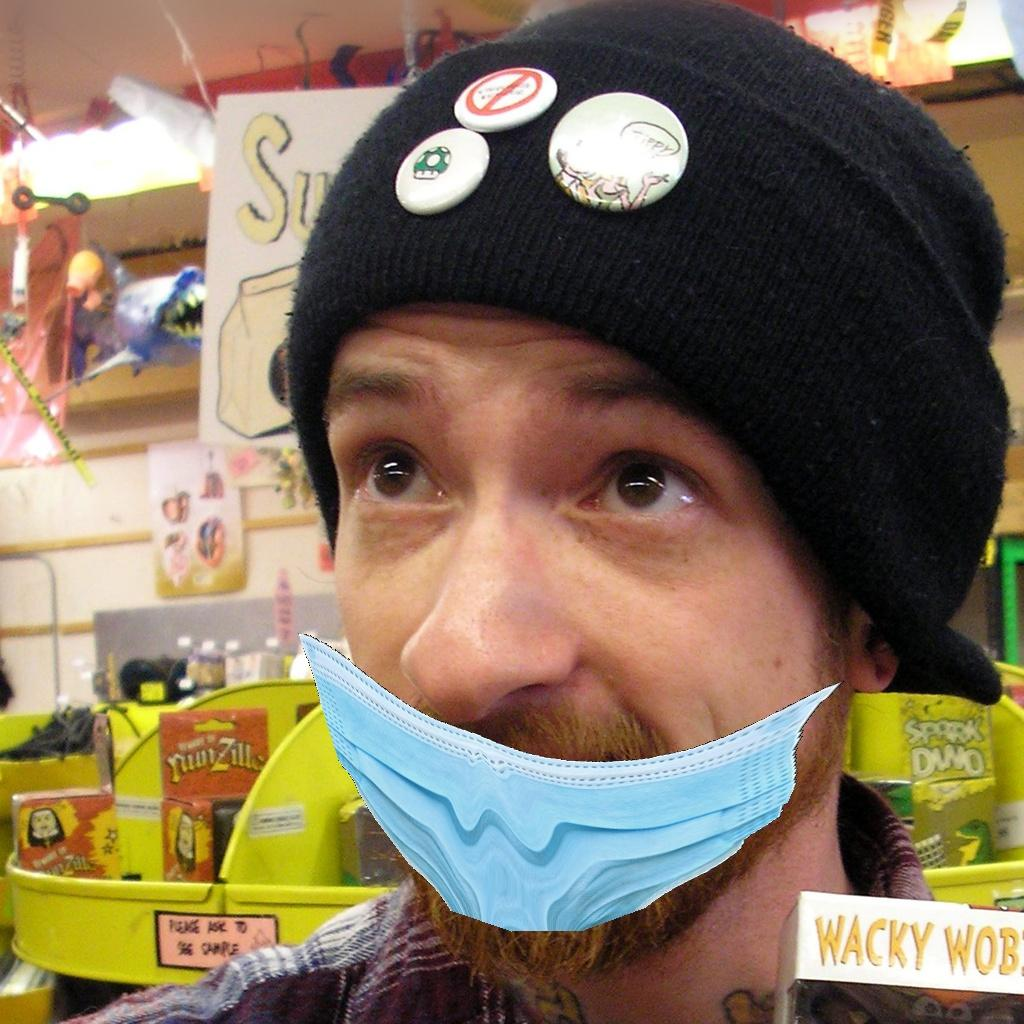Máscara Incorreta: (278, 288, 831, 932)
